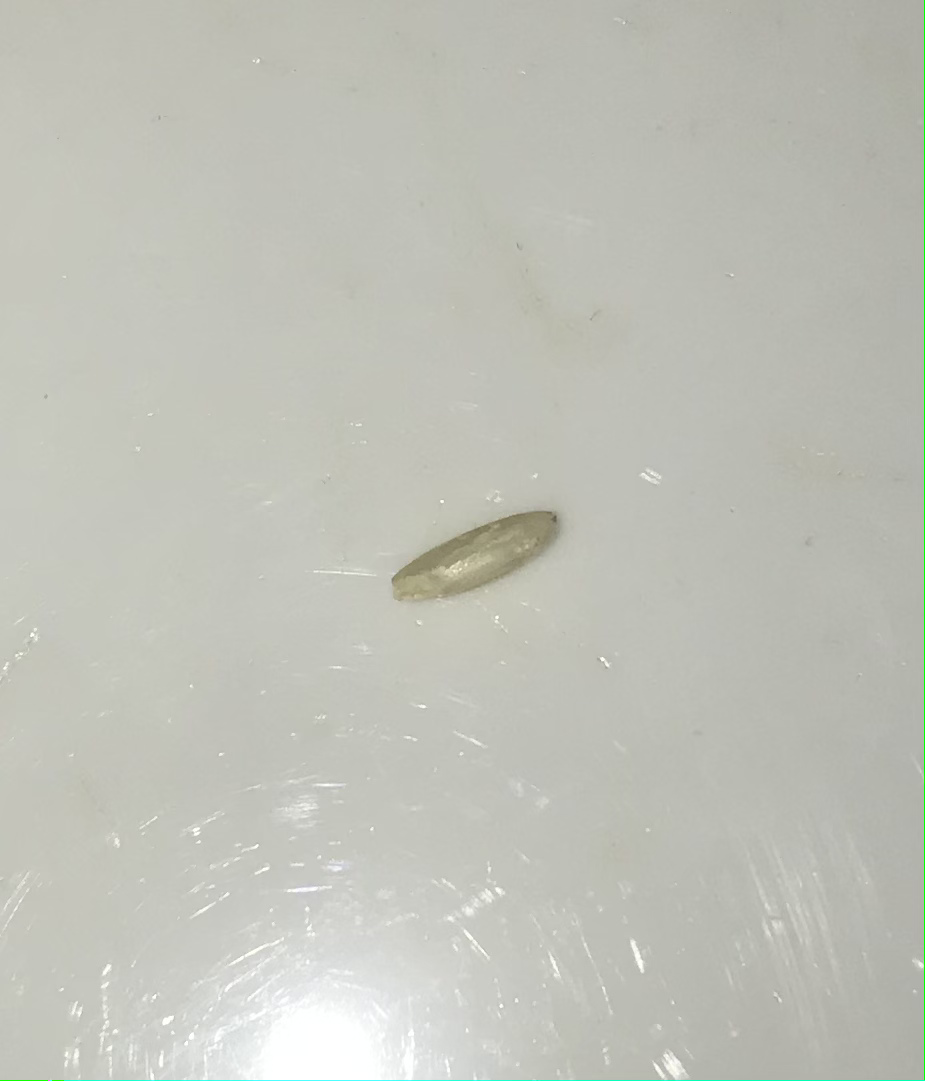Gao Lut Trang: (390, 497, 568, 618)
